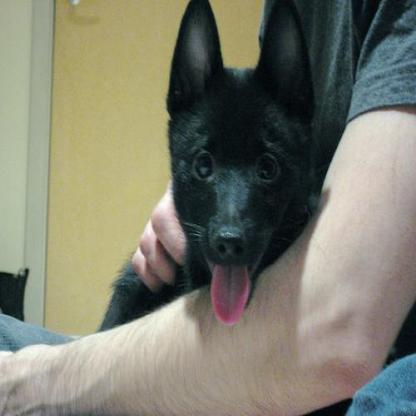schipperke: (90, 1, 327, 414)
